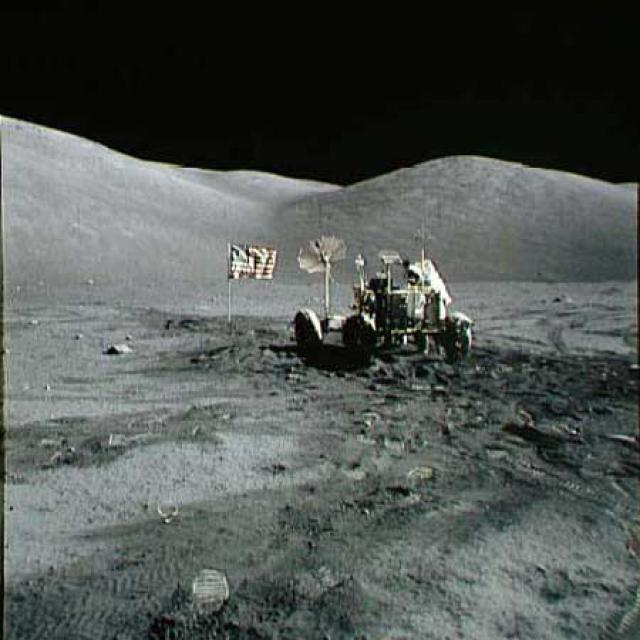artifact: (285, 225, 491, 373), (224, 233, 286, 336)
rock: (102, 339, 135, 360)
